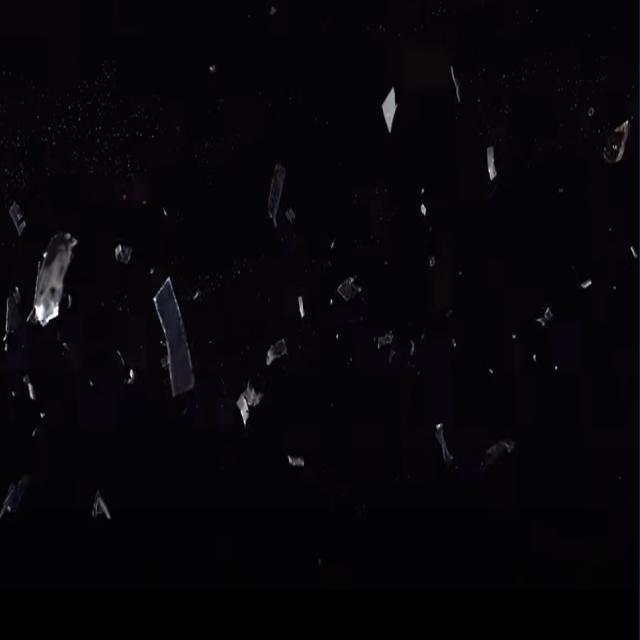large_debris: (151, 262, 204, 404), (31, 227, 80, 334), (423, 402, 463, 477), (236, 384, 276, 443), (84, 487, 124, 541), (607, 111, 640, 175), (270, 158, 296, 233), (380, 69, 404, 147), (5, 185, 31, 247), (5, 281, 22, 364), (445, 59, 464, 119), (336, 270, 365, 308), (261, 336, 290, 373), (291, 446, 313, 492), (485, 143, 503, 199), (110, 233, 134, 272), (291, 289, 309, 339), (22, 377, 46, 409)
